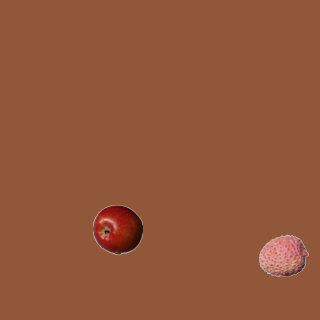Apple Braeburn: (92, 204, 142, 254)
Lychee: (258, 230, 308, 280)
